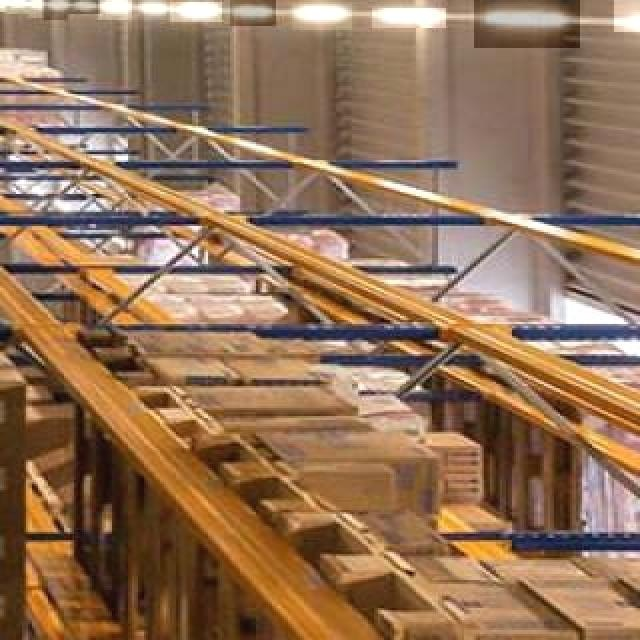fluorescent tube: (482, 0, 586, 42), (375, 0, 455, 27), (296, 0, 360, 30), (229, 2, 276, 27), (612, 0, 640, 40), (176, 0, 222, 24), (144, 0, 180, 18), (100, 0, 138, 14), (76, 0, 102, 14), (46, 0, 70, 12)
